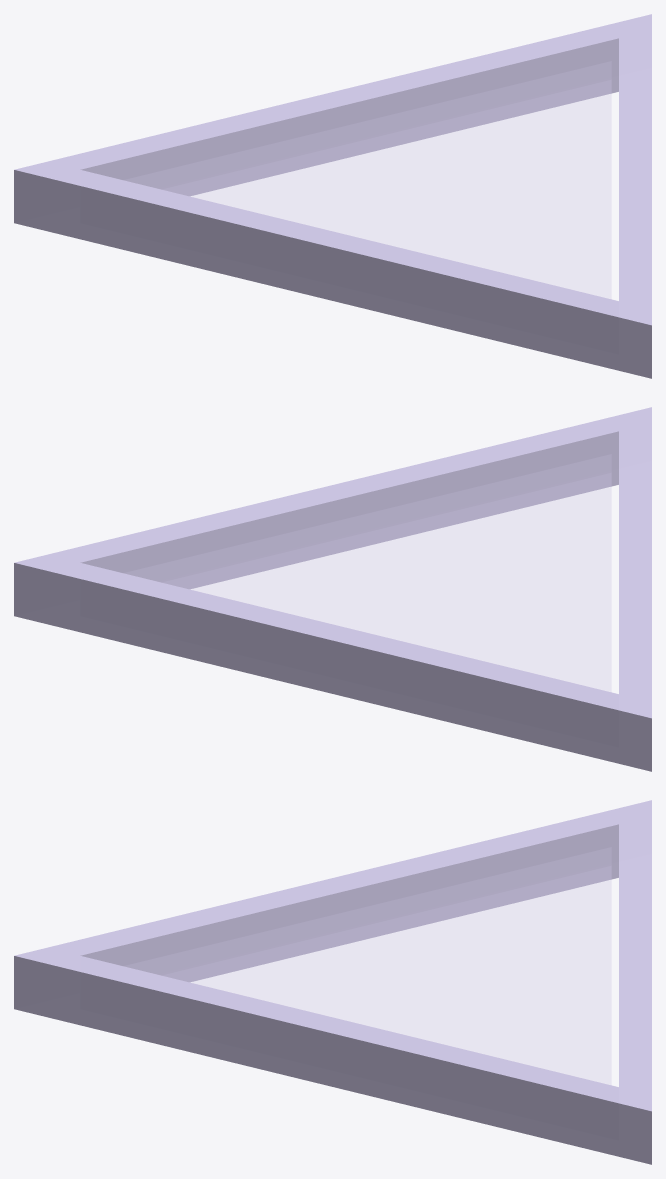
File: tile-triangle-green.glb
3 renders of one model, top to bottom at view 1: azimuth 30°, elevation 25°; view 2: azimuth 150°, elevation 25°; view 3: azimuth 270°, elevation 25°, orthographic.
Visible parts, largest first — view 1: tile; view 2: tile; view 3: tile.
Boxes of the visible parts, x1,y1,x2,y2 form: tile: (14, 14, 651, 378); tile: (14, 407, 651, 771); tile: (14, 800, 651, 1164).
Bounding box in the file's own units: 1 × 0.08 × 0.866.
